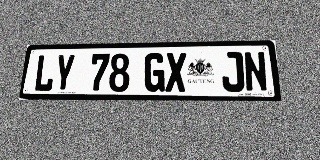7: (88, 54, 110, 92)
8: (108, 53, 130, 92)
G: (144, 53, 165, 92)
J: (221, 52, 245, 92)
L: (33, 54, 56, 92)
N: (243, 51, 268, 92)
X: (165, 53, 187, 92)
Y: (53, 54, 76, 92)
